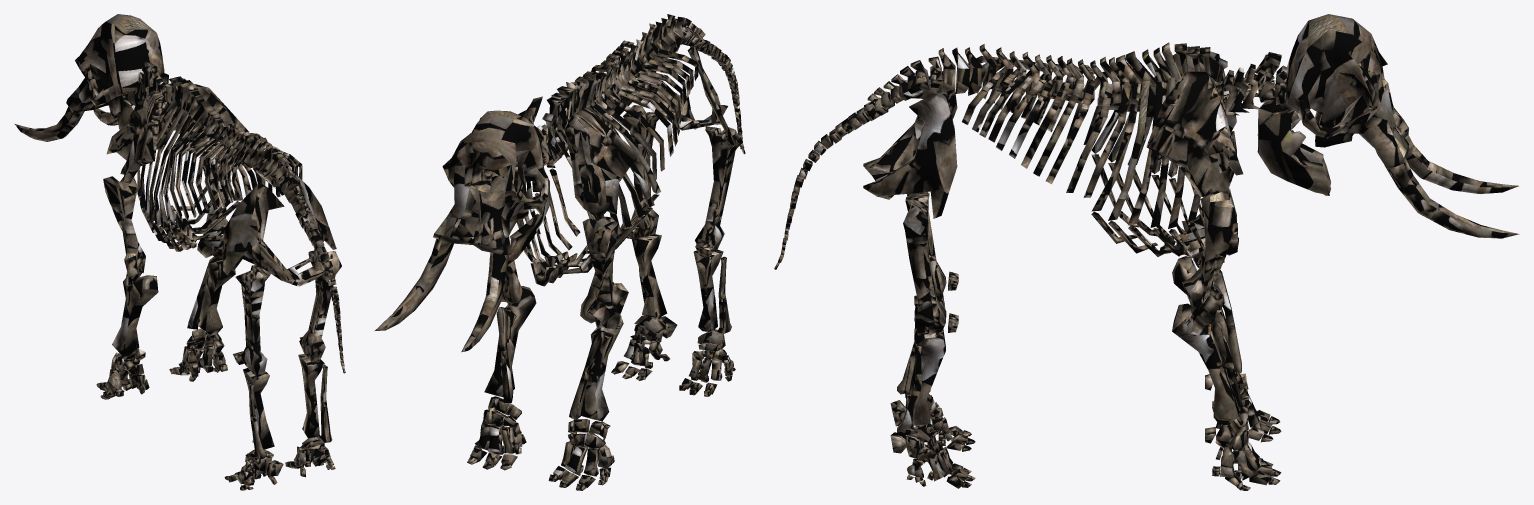
Rendered from ElephantSkeletonModel EDITED.fbx.
3 views of the same model, side by side, from view 1: azimuth 30°, elevation 25°; view 2: azimuth 150°, elevation 25°; view 3: azimuth 270°, elevation 25° (orthographic). The views are drawn at different scales.
Parts seen in each view (by area): view 1: ElephantBone.001, ElephantBone.005, ElephantBone.010, ElephantBone.013, ElephantBone.003, ElephantBone.007, ElephantBone.006, ElephantBone.009, ElephantBone.008, ElephantBone.002, ElephantBone.004, ElephantBone.012 (+3 smaller); view 2: ElephantBone.001, ElephantBone.013, ElephantBone.005, ElephantBone.006, ElephantBone.007, ElephantBone.003, ElephantBone.008, ElephantBone.009, ElephantBone.012, ElephantBone.004, ElephantBone.010, ElephantBone.011 (+3 smaller); view 3: ElephantBone.001, ElephantBone.004, ElephantBone.014, ElephantBone.003, ElephantBone.010, ElephantBone.007, ElephantBone.005, ElephantBone.009, ElephantBone.002, ElephantBone.011, ElephantBone.006, ElephantBone.015 (+3 smaller).
Boxes of the visible parts, x1=… form: ElephantBone.001: x1=14, y1=14, x2=169, y2=149; ElephantBone.005: x1=137, y1=102, x2=245, y2=251; ElephantBone.010: x1=223, y1=174, x2=336, y2=286; ElephantBone.013: x1=103, y1=92, x2=163, y2=286; ElephantBone.003: x1=161, y1=76, x2=287, y2=187; ElephantBone.007: x1=169, y1=257, x2=235, y2=381; ElephantBone.006: x1=96, y1=275, x2=158, y2=399; ElephantBone.009: x1=285, y1=354, x2=335, y2=477; ElephantBone.008: x1=224, y1=368, x2=283, y2=490; ElephantBone.002: x1=270, y1=161, x2=345, y2=373; ElephantBone.004: x1=179, y1=133, x2=302, y2=241; ElephantBone.012: x1=233, y1=265, x2=270, y2=377; ElephantBone.001: x1=375, y1=110, x2=550, y2=352; ElephantBone.013: x1=564, y1=107, x2=638, y2=329; ElephantBone.005: x1=530, y1=49, x2=698, y2=286; ElephantBone.006: x1=548, y1=315, x2=623, y2=490; ElephantBone.007: x1=467, y1=286, x2=536, y2=470; ElephantBone.003: x1=547, y1=14, x2=682, y2=155; ElephantBone.008: x1=679, y1=250, x2=735, y2=396; ElephantBone.009: x1=611, y1=234, x2=677, y2=380; ElephantBone.012: x1=695, y1=126, x2=742, y2=257; ElephantBone.004: x1=516, y1=40, x2=634, y2=263; ElephantBone.010: x1=609, y1=46, x2=736, y2=145; ElephantBone.011: x1=620, y1=105, x2=658, y2=238; ElephantBone.001: x1=1257, y1=14, x2=1519, y2=238; ElephantBone.004: x1=962, y1=72, x2=1223, y2=258; ElephantBone.014: x1=1146, y1=71, x2=1243, y2=328; ElephantBone.003: x1=938, y1=42, x2=1211, y2=116; ElephantBone.010: x1=863, y1=71, x2=957, y2=218; ElephantBone.007: x1=1172, y1=303, x2=1281, y2=490; ElephantBone.005: x1=968, y1=55, x2=1238, y2=258; ElephantBone.009: x1=890, y1=328, x2=975, y2=488; ElephantBone.002: x1=774, y1=56, x2=942, y2=269; ElephantBone.011: x1=903, y1=192, x2=958, y2=335; ElephantBone.006: x1=1172, y1=256, x2=1281, y2=442; ElephantBone.015: x1=1217, y1=52, x2=1287, y2=115.
Size of the model in its own units: 95.57 by 260 by 394.
Materials: 1 (1 with a texture image).
